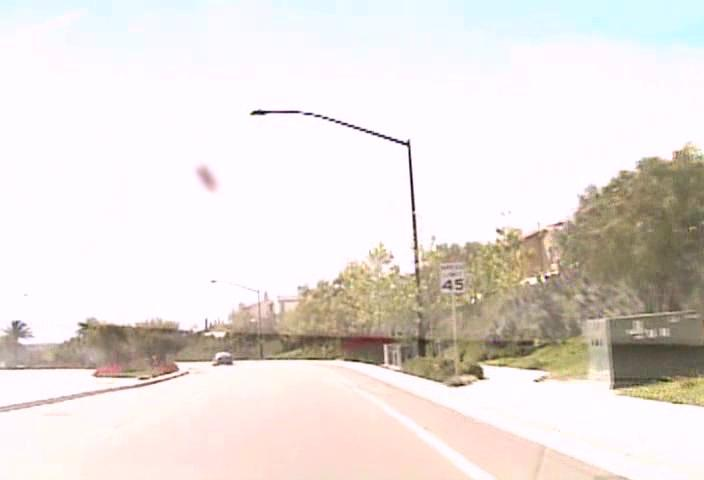speedLimit45: (438, 259, 466, 293)
